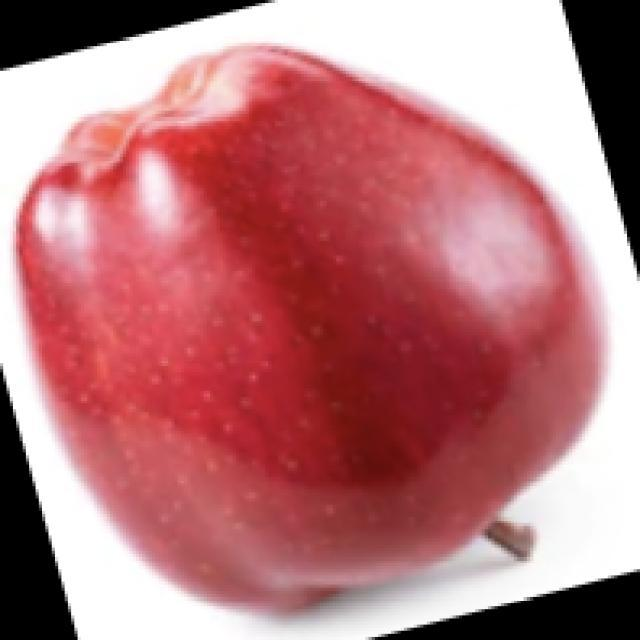Fresh Apple: (15, 39, 600, 614)
